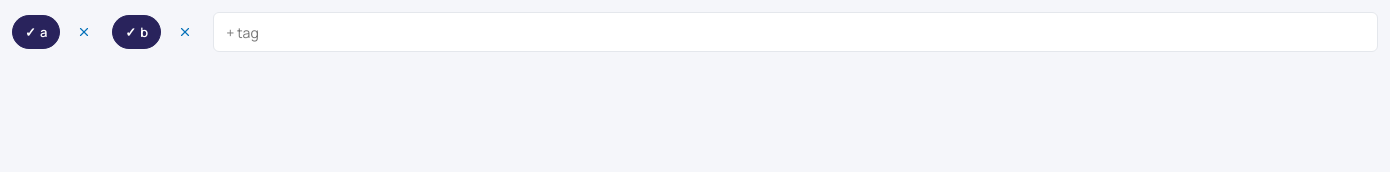
Test: Backspace com o campo vazio remove a última tag
Click the field named "Tags".
click(796, 32)  # box x1=213 y1=12 x2=1378 y2=52
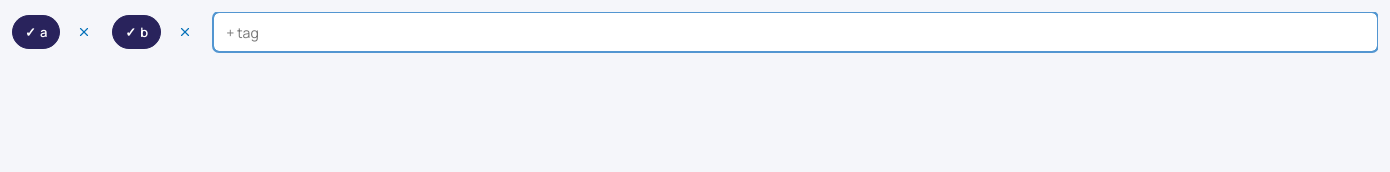
Press Backspace
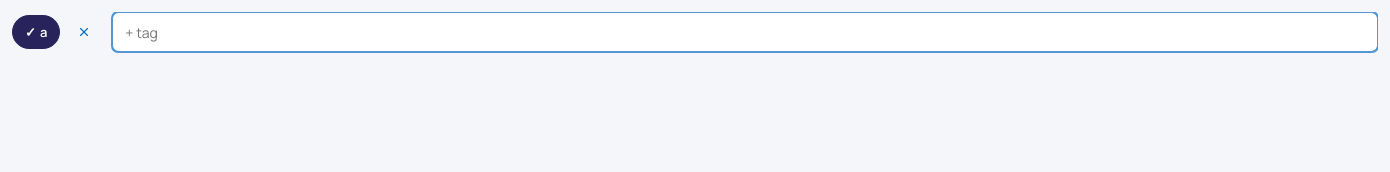
Expected: the button "✓ a" is shown, x1=12 y1=15 x2=60 y2=49
Now the button "b" is gone
